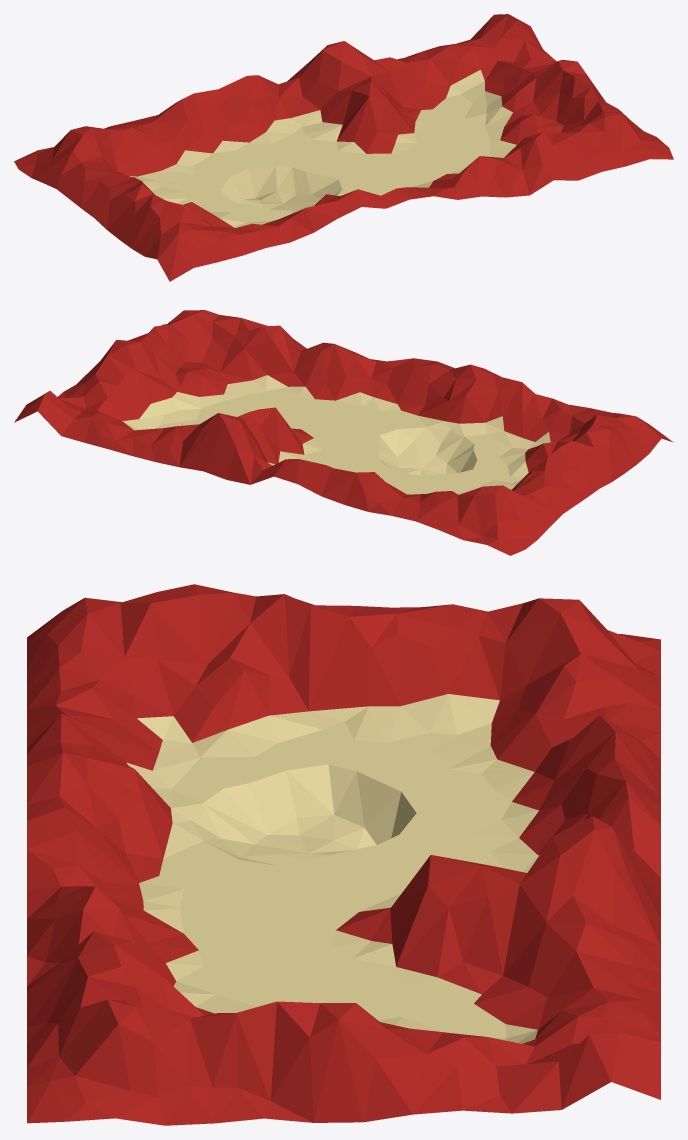
Rendered from ShowcaseTerrain.FBX.
The picture shows the model from 3 angles, top to bottom: view 1: azimuth 30°, elevation 25°; view 2: azimuth 150°, elevation 25°; view 3: azimuth 270°, elevation 25°; orthographic projection. The views are drawn at different scales.
Visible parts, largest first — view 1: MountainTerrain; view 2: MountainTerrain; view 3: MountainTerrain.
Boxes of the visible parts, x1,y1,x2,y2 form: MountainTerrain: [14, 14, 673, 281]; MountainTerrain: [14, 310, 673, 555]; MountainTerrain: [27, 584, 660, 1125].
Size of the model in its own units: 11475 by 1815 by 6281.
